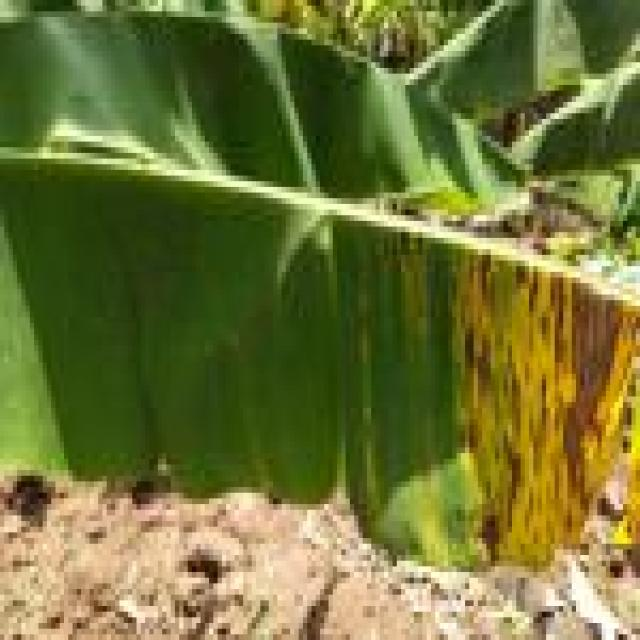Early_rust: (328, 136, 640, 572)
